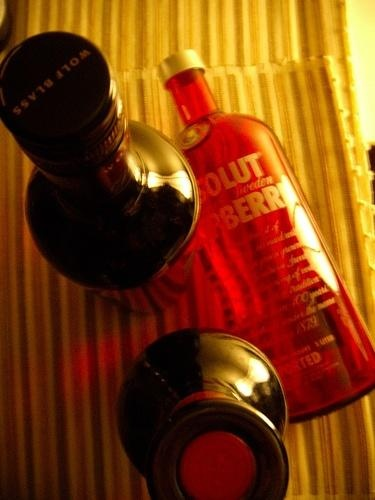bottle: (153, 45, 375, 426), (1, 31, 203, 317), (117, 329, 291, 500)
